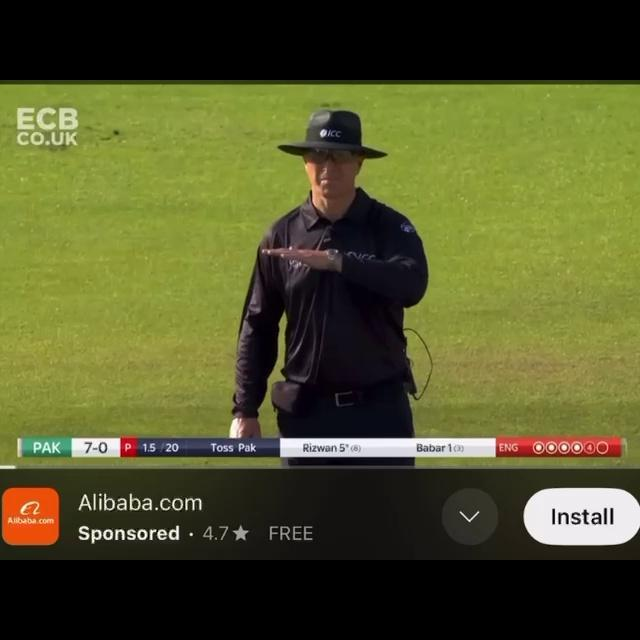umpire: (200, 104, 451, 436)
